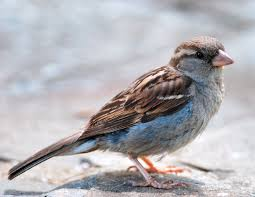hsparrow: (6, 31, 238, 190)
